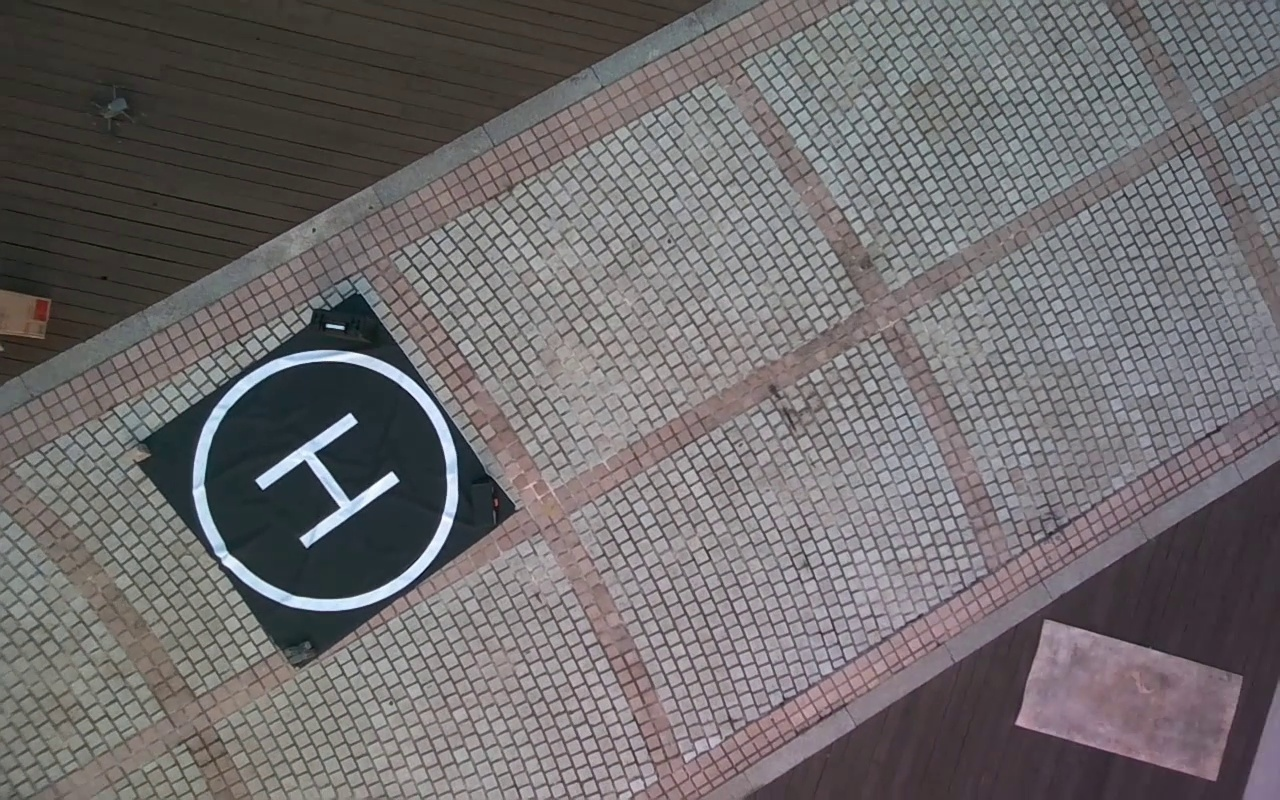H: (254, 413, 399, 549)
heliport: (196, 349, 459, 608)
